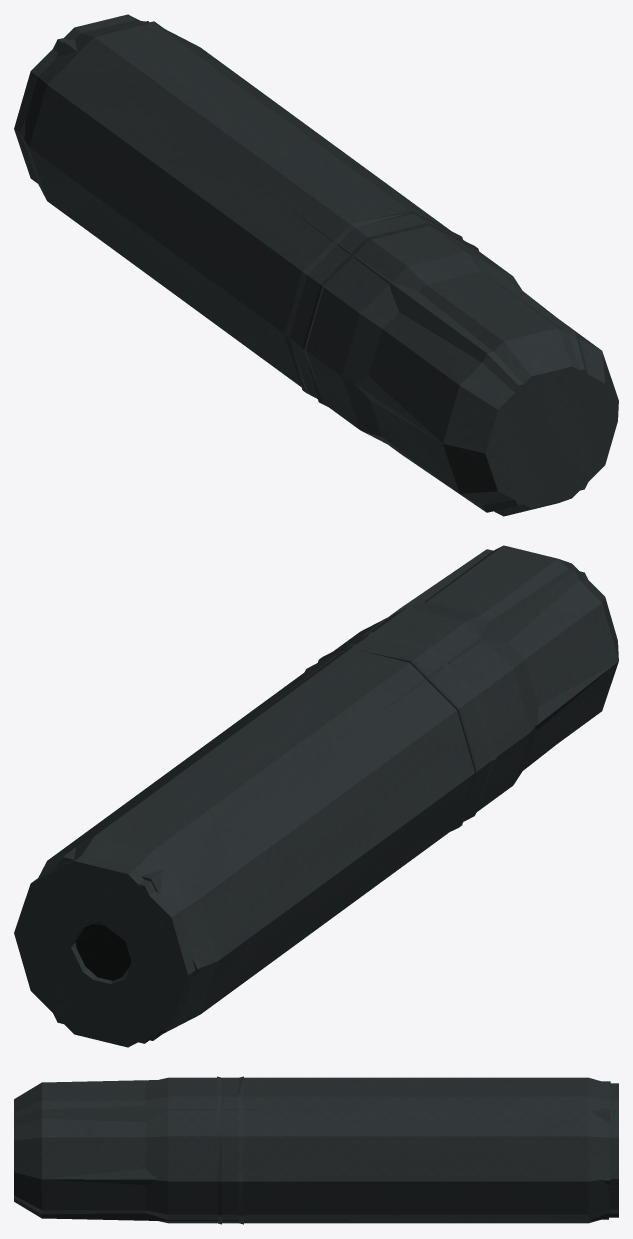
Rendered from g36_can.glb.
3 views of the same model, one above another, from view 1: azimuth 30°, elevation 25°; view 2: azimuth 150°, elevation 25°; view 3: azimuth 270°, elevation 25° (orthographic). The views are drawn at different scales.
Visible parts, largest first — view 1: muzzle__g36_can_LOD0_RAID_Secondary_Original_steel, muzzle__g36_can_LOD1_RAID_Secondary_Original_steel; view 2: muzzle__g36_can_LOD0_RAID_Secondary_Original_steel, muzzle__g36_can_LOD1_RAID_Secondary_Original_steel, muzzle__g36_can_LOD0_RAID_Secondary_Original_rubber; view 3: muzzle__g36_can_LOD0_RAID_Secondary_Original_steel, muzzle__g36_can_LOD1_RAID_Secondary_Original_steel.
Boxes of the visible parts, x1=… form: muzzle__g36_can_LOD0_RAID_Secondary_Original_steel: x1=14, y1=14, x2=618, y2=516; muzzle__g36_can_LOD1_RAID_Secondary_Original_steel: x1=19, y1=21, x2=617, y2=512; muzzle__g36_can_LOD0_RAID_Secondary_Original_steel: x1=14, y1=545, x2=618, y2=1047; muzzle__g36_can_LOD1_RAID_Secondary_Original_steel: x1=15, y1=549, x2=618, y2=1043; muzzle__g36_can_LOD0_RAID_Secondary_Original_rubber: x1=76, y1=924, x2=131, y2=980; muzzle__g36_can_LOD0_RAID_Secondary_Original_steel: x1=14, y1=1076, x2=618, y2=1224; muzzle__g36_can_LOD1_RAID_Secondary_Original_steel: x1=14, y1=1080, x2=618, y2=1220.
Bounding box in the file's own units: 0.059 × 0.0561 × 0.239.
Materials: 2 (2 with a texture image).
